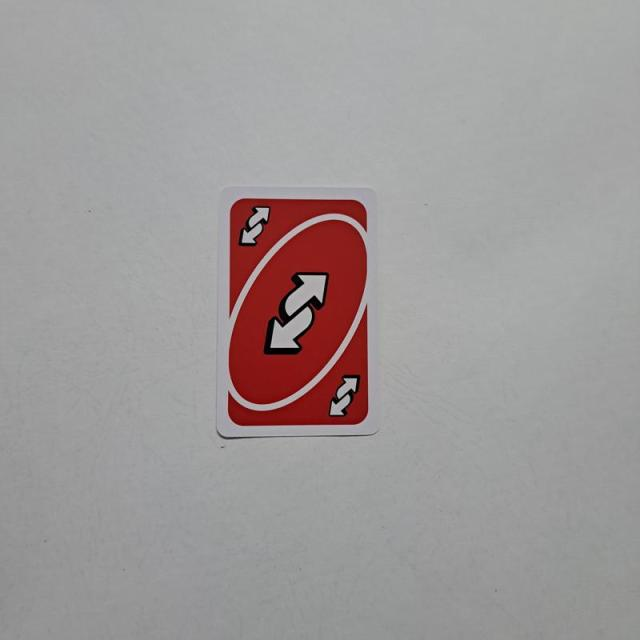Red_Card: (224, 192, 375, 434)
Reverse: (235, 198, 272, 253)
